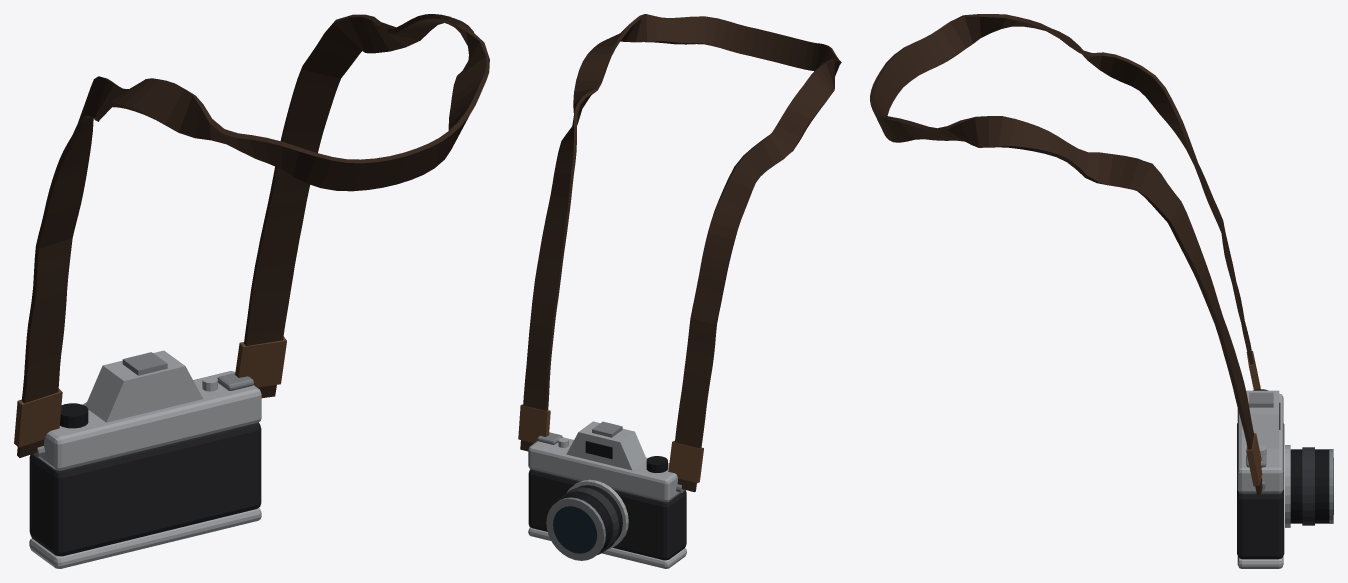
Rendered from camera_film.glb.
3 renders of one model, left to right at view 1: azimuth 30°, elevation 25°; view 2: azimuth 150°, elevation 25°; view 3: azimuth 270°, elevation 25°, orthographic. The views are drawn at different scales.
Visible parts, largest first — view 1: camera_body; view 2: camera_body; view 3: camera_body.
Part boxes in pixels (left/top/right/bottom): camera_body: left=14, top=14, right=489, bottom=568; camera_body: left=518, top=14, right=841, bottom=568; camera_body: left=870, top=14, right=1333, bottom=568.
Bounding box in the file's own units: 0.2086 × 0.36 × 0.3238.
